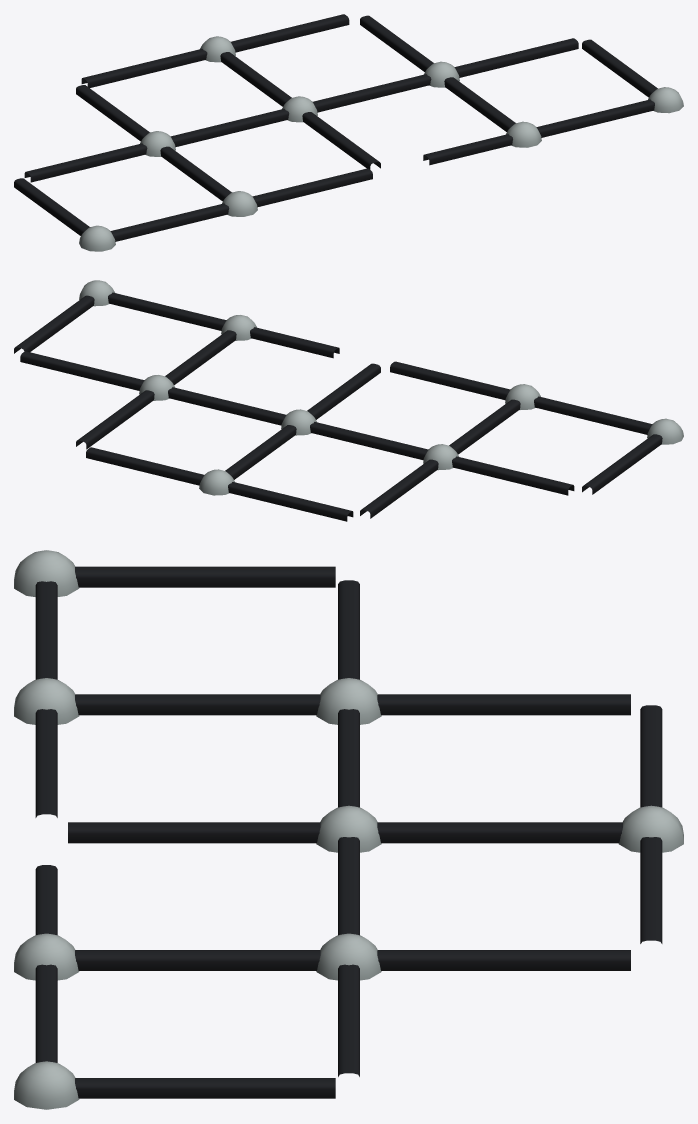
The model's file is barra_v02.fbx.
The picture shows the model from 3 angles, top to bottom: view 1: azimuth 30°, elevation 25°; view 2: azimuth 150°, elevation 25°; view 3: azimuth 270°, elevation 25°; orthographic projection. The views are drawn at different scales.
Parts seen in each view (by area): view 1: pSphere10; view 2: pSphere10; view 3: pSphere10.
Part boxes in pixels (x1=…): pSphere10: x1=14, y1=14, x2=683, y2=251; pSphere10: x1=14, y1=280, x2=683, y2=521; pSphere10: x1=14, y1=550, x2=683, y2=1109.
Bounding box in the file's own units: 15.11 × 0.4056 × 7.92.
